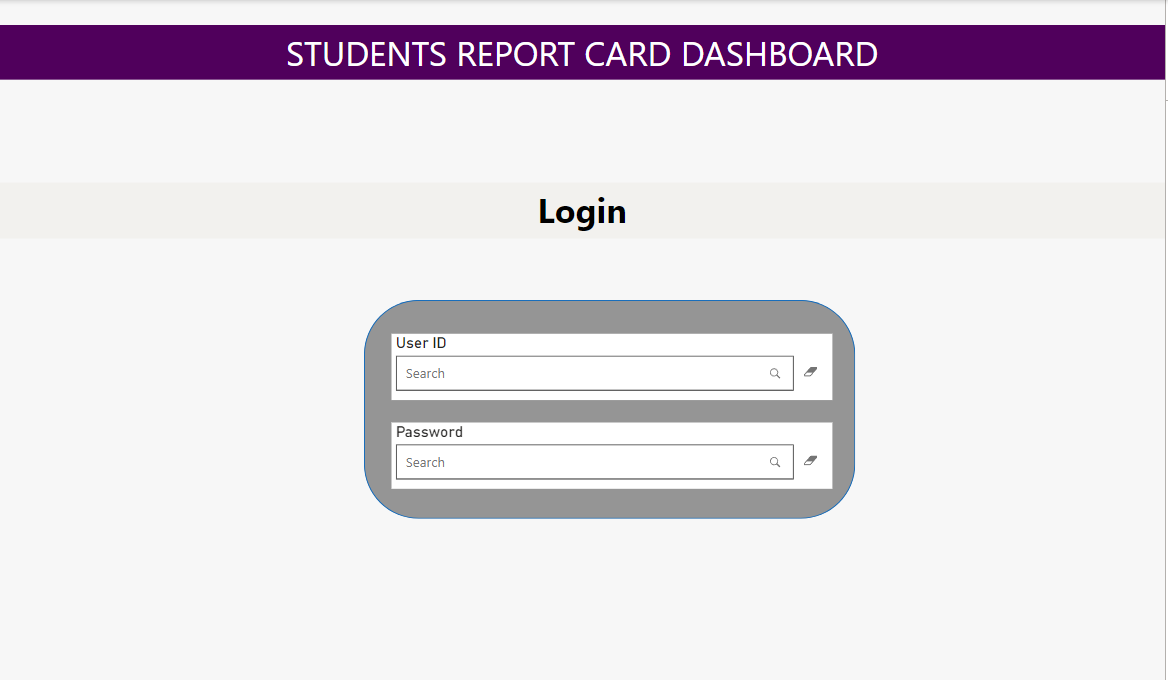

The dashboard page shown, as its layout file describes it:
{"tool":"powerbi","page":{"name":"Page 1","canvas":[1280,720],"ordinal":0},"visuals":[{"type":"textbox","box":[0,0,1280.3,60.4],"z":0},{"type":"textbox","box":[0,172.9,1280.3,61.7],"z":1000},{"type":"shape","box":[400.7,301.9,539.3,240.1],"z":2000},{"type":"textFilter25A4896A83E0487089E2B90C9AE57C8A","fields":{"field":["Final_data.Phone"]},"box":[430.9,338.9,484.4,72.7],"z":3000},{"type":"card","fields":{"Values":["Final_data.Full_name"]},"box":[0,580.4,503.6,140],"z":4000},{"type":"card","fields":{"Values":["Final_data.Center"]},"box":[817.8,580.4,462.4,140],"z":5000},{"type":"textFilter25A4896A83E0487089E2B90C9AE57C8A","fields":{"field":["Final_data.Password"]},"box":[430.9,436.4,484.4,72.7],"z":6000},{"type":"actionButton","box":[581.8,592.8,156.4,70],"z":7000}]}

Visuals, with their boxes on the page's 1280x720 design canvas (x1, y1, x2, y2). These are canvas units, not pixel positions in the 1168x680 screenshot, which may show the page scaled, cropped or inside an application window:
textbox: [left=0, top=0, right=1280, bottom=60]
textbox: [left=0, top=173, right=1280, bottom=235]
shape: [left=401, top=302, right=940, bottom=542]
textFilter25A4896A83E0487089E2B90C9AE57C8A - Final_data.Phone: [left=431, top=339, right=915, bottom=412]
card - Final_data.Full_name: [left=0, top=580, right=504, bottom=720]
card - Final_data.Center: [left=818, top=580, right=1280, bottom=720]
textFilter25A4896A83E0487089E2B90C9AE57C8A - Final_data.Password: [left=431, top=436, right=915, bottom=509]
actionButton: [left=582, top=593, right=738, bottom=663]
